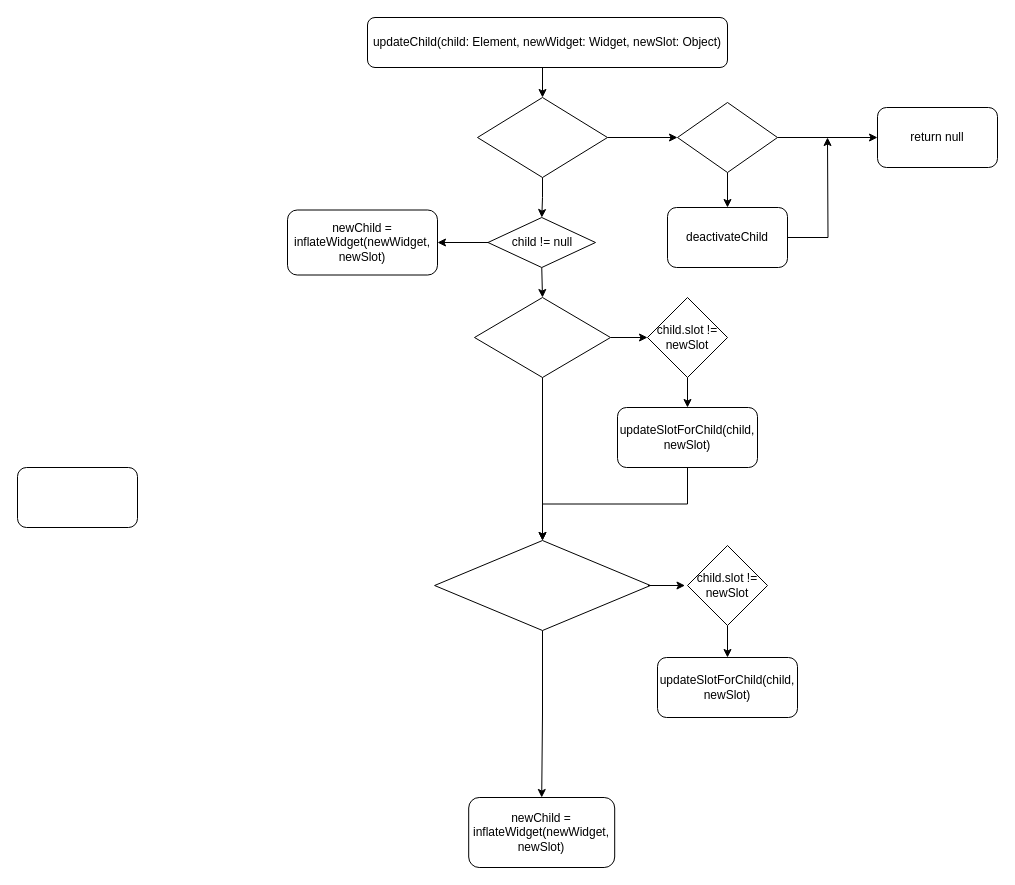
This 1015x885 diagram has some shape labels left out. Each missing label, with the centre of its shape:
child == null: [727,137]
child.widget == newWidget: [542,337]
newWidget == null: [542,137]
over: [77,497]
Widget.canUpdate(child.widget, newWidget): [542,585]
